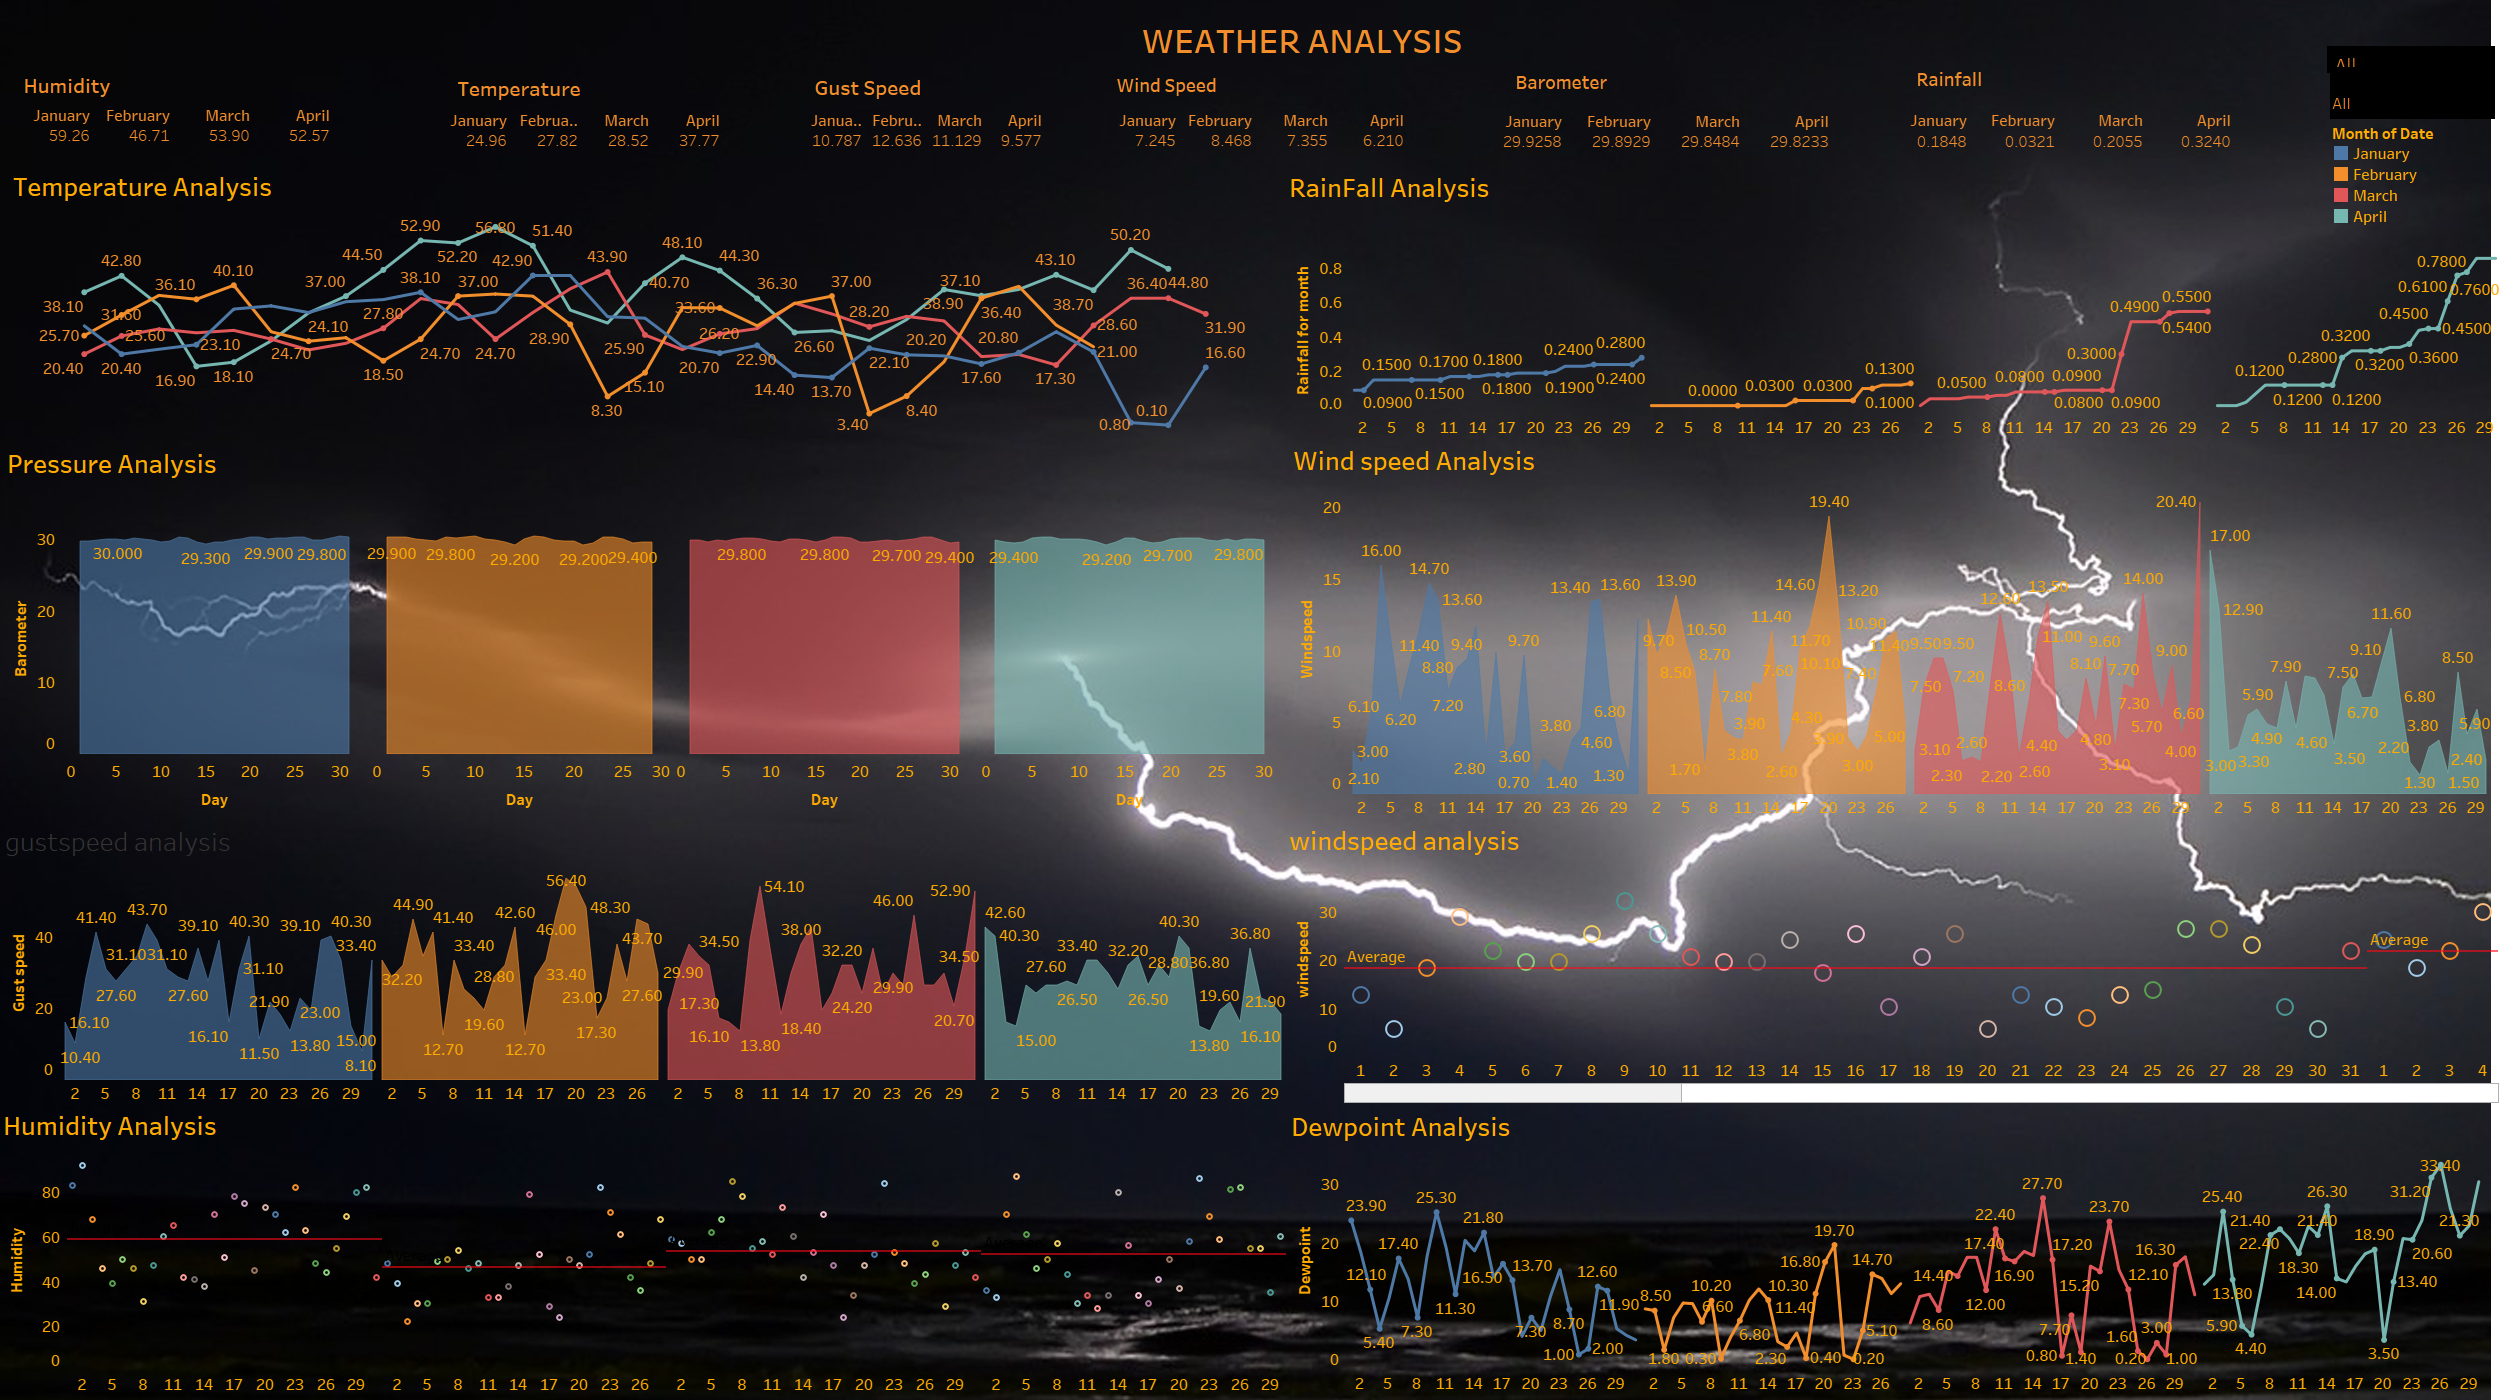

This screenshot's page, from the dashboard's own definition file:
{"tool":"tableau","page":{"name":"Dashboard 1","canvas":[2500,1400],"ordinal":0},"visuals":[{"type":"text","box":[1102.4,3.9,400,71.4]},{"type":"filter","title":"Sheet 10","param":"[federated.0jsqtw80ryvr9v18d5jj30ukak3k].[mn:Date:ok]","box":[2327.4,46.3,167.9,27]},{"type":"text","box":[1913.1,52.1,158.3,54.1]},{"type":"text","box":[1511.9,55,158.3,54.1]},{"type":"text","box":[1113.1,57.9,169.1,54.1]},{"type":"worksheet","title":"Sheet 14","mark":"Automatic","cols":["Date"],"box":[1883.3,59,438.1,93]},{"type":"worksheet","title":"Sheet 13","mark":"Automatic","cols":["Date"],"box":[1477.4,60.8,432.2,92.7]},{"type":"text","box":[20.2,65.7,214.3,38.6]},{"type":"text","box":[453.6,67.6,277.4,40.6]},{"type":"text","box":[810.7,70.5,188.1,33.8]},{"type":"filter","title":"Sheet1","param":"[federated.0jsqtw80ryvr9v18d5jj30ukak3k].[dy:Date:ok]","box":[2329.8,71.4,165.5,47.3]},{"type":"worksheet","title":"Sheet 12","mark":"Automatic","cols":["Date"],"box":[1103.6,94.6,370.2,58.9]},{"type":"worksheet","title":"Sheet 9","mark":"Automatic","cols":["Date"],"box":[14.3,105.2,407.2,53.1]},{"type":"worksheet","title":"Sheet 10","mark":"Automatic","cols":["Date"],"box":[440.5,110.1,359.5,47.3]},{"type":"worksheet","title":"Sheet 11","mark":"Automatic","cols":["Date"],"box":[806,110.1,292.9,46.3]},{"type":"legend","title":"Sheet 6","param":"[federated.0jsqtw80ryvr9v18d5jj30ukak3k].[mn:Date:ok]","box":[2331,120.7,165.5,104.3]},{"type":"worksheet","title":"Sheet1","mark":"Automatic","rows":["Average temperature"],"cols":["Date","Date"],"box":[7.4,163.3,1276.5,276.3]},{"type":"worksheet","title":"Sheet 2","mark":"Automatic","rows":["Rainfall for month"],"cols":["Date","Date"],"box":[1285.3,164.3,1214.7,275.3]},{"type":"worksheet","title":"Sheet 4","mark":"Area","rows":["Average windspeed"],"cols":["Date","Date"],"box":[1289.3,437.4,1202.4,382.3]},{"type":"worksheet","title":"Sheet 5","mark":"Area","rows":["Average barometer"],"cols":["Date","Date"],"box":[3,439.6,1279.4,377.1]},{"type":"worksheet","title":"Sheet 8","mark":"Shape","rows":["Maximum windspeed"],"cols":["Date","Date"],"box":[1285,817,1213,286]},{"type":"worksheet","title":"Sheet 7","mark":"Area","rows":["Maximum gust speed"],"cols":["Date","Date"],"box":[1.5,817.6,1285.3,287.5]},{"type":"worksheet","title":"Sheet 6","mark":"Line","rows":["Average dewpoint"],"cols":["Date","Date"],"box":[1286.8,1103.2,1195.6,292.1]}]}

Visuals, with their boxes in screenshot pixels (x1, y1, x2, y2), scaled from the page's 2500x1400 canvas onto the 2500x1400 screenshot:
text: <box>1102,4,1502,75</box>
"Sheet 10" filter: <box>2327,46,2495,73</box>
text: <box>1913,52,2071,106</box>
text: <box>1512,55,1670,109</box>
text: <box>1113,58,1282,112</box>
"Sheet 14" worksheet: <box>1883,59,2321,152</box>
"Sheet 13" worksheet: <box>1477,61,1910,154</box>
text: <box>20,66,234,104</box>
text: <box>454,68,731,108</box>
text: <box>811,70,999,104</box>
"Sheet1" filter: <box>2330,71,2495,119</box>
"Sheet 12" worksheet: <box>1104,95,1474,154</box>
"Sheet 9" worksheet: <box>14,105,422,158</box>
"Sheet 10" worksheet: <box>440,110,800,157</box>
"Sheet 11" worksheet: <box>806,110,1099,156</box>
"Sheet 6" legend: <box>2331,121,2496,225</box>
"Sheet1" worksheet: <box>7,163,1284,440</box>
"Sheet 2" worksheet: <box>1285,164,2499,440</box>
"Sheet 4" worksheet (Area marks): <box>1289,437,2492,820</box>
"Sheet 5" worksheet (Area marks): <box>3,440,1282,817</box>
"Sheet 8" worksheet (Shape marks): <box>1285,817,2498,1103</box>
"Sheet 7" worksheet (Area marks): <box>2,818,1287,1105</box>
"Sheet 6" worksheet (Line marks): <box>1287,1103,2482,1395</box>
